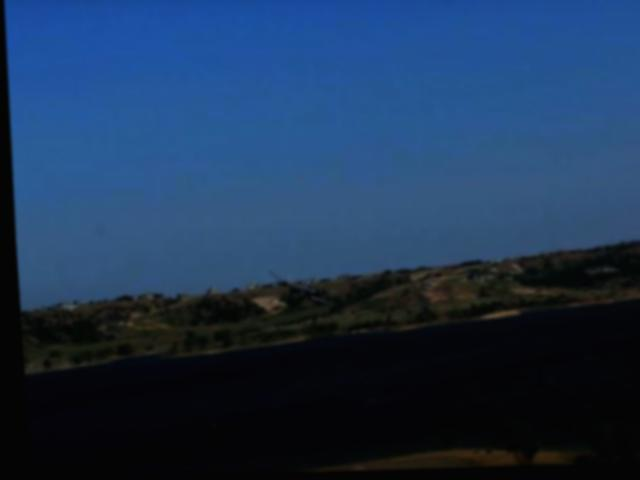iha: (266, 264, 334, 312)
